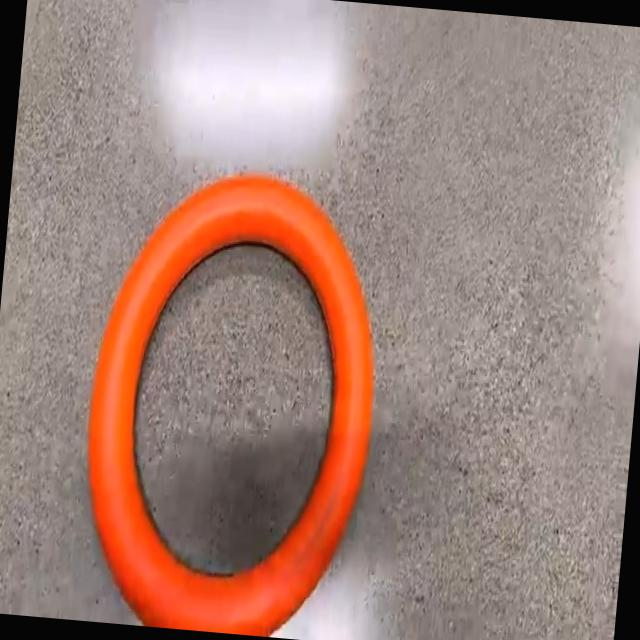note: (88, 175, 373, 633)
